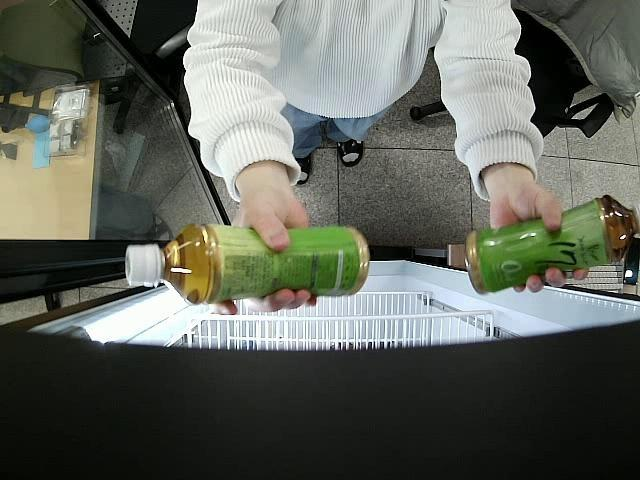19_17cha: (122, 221, 370, 306), (463, 194, 640, 296)
